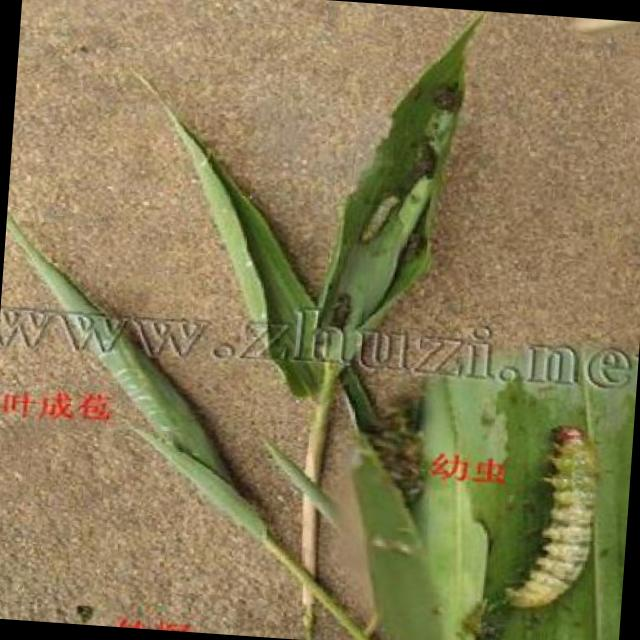leaf-folder: (498, 401, 634, 626), (330, 138, 420, 271)
